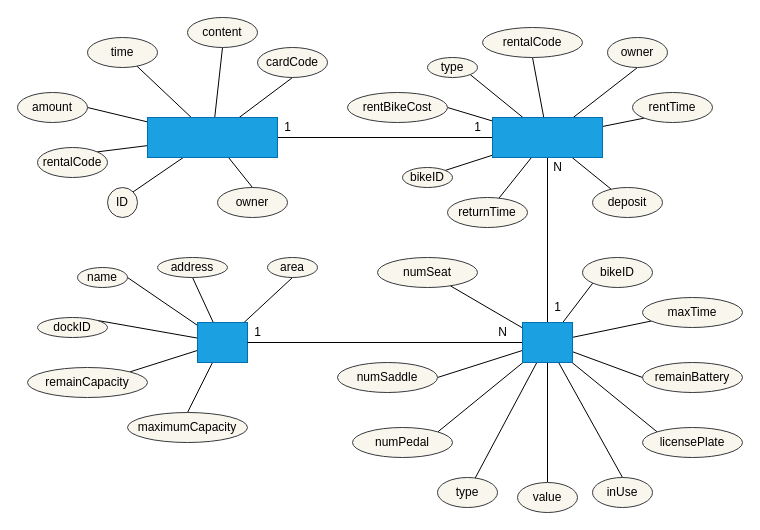
Some shapes in this 760 by 530 pixel diagram are drawn without their labels. Here are the shapes that lost their labels. From the top down, the centre of each, then its label:
At [212,137]: "PaymentTransaction".
At [547,137]: "RentBikeInvoice".
At [222,342]: "Dock".
At [547,342]: "Bike".
